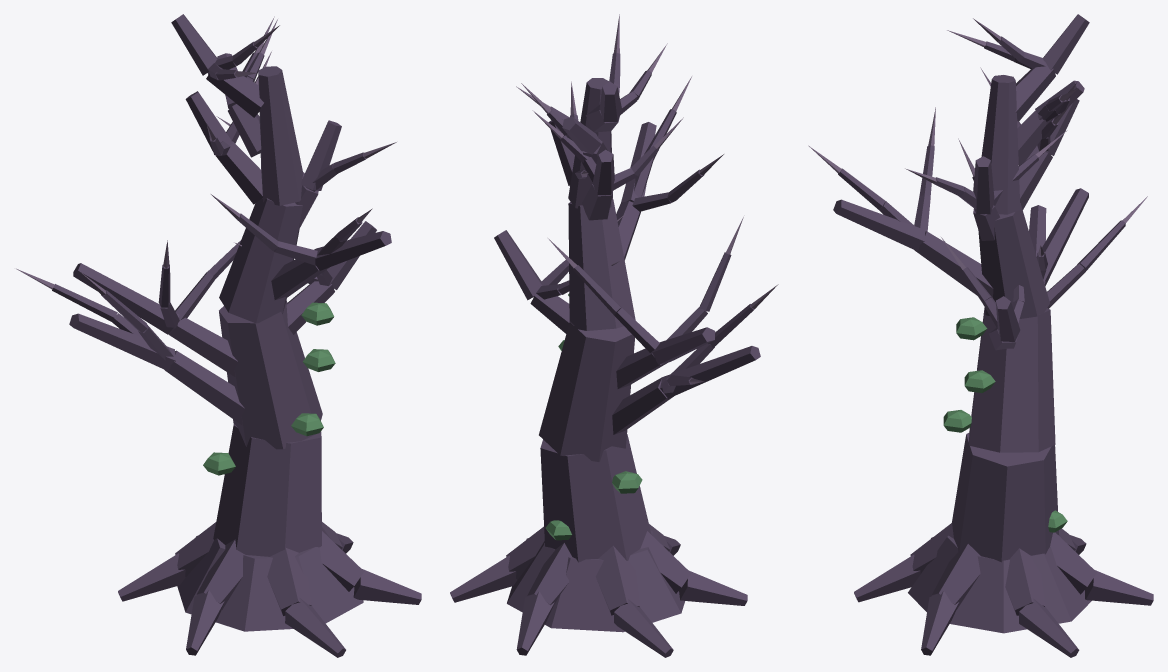
Rendered from tree_dead.glb.
3 renders of one model, left to right at view 1: azimuth 30°, elevation 25°; view 2: azimuth 150°, elevation 25°; view 3: azimuth 270°, elevation 25°, orthographic. The views are drawn at different scales.
Parts seen in each view (by area): view 1: tree_dead; view 2: tree_dead; view 3: tree_dead.
Part boxes in pixels (left/top/right/bottom): tree_dead: left=16, top=14, right=421, bottom=657; tree_dead: left=450, top=14, right=778, bottom=657; tree_dead: left=808, top=14, right=1153, bottom=657.
Bounding box in the file's own units: 2.82 × 5.22 × 2.81.
